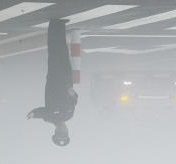person: (26, 17, 74, 147)
